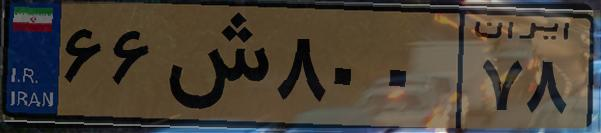0: (385, 28, 445, 110), (330, 28, 385, 110)
6: (57, 26, 110, 100), (110, 28, 158, 98)
7: (475, 38, 525, 113)
8: (270, 28, 330, 110), (525, 38, 570, 115)
ش: (158, 12, 270, 120)
